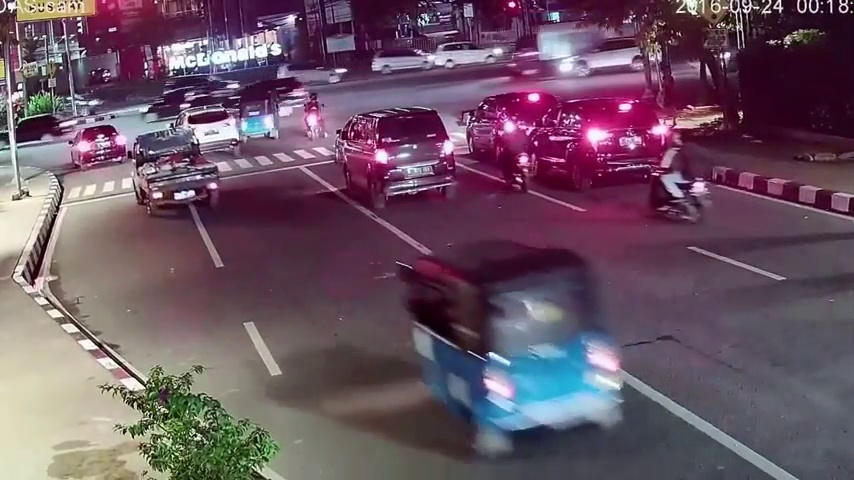car: (392, 235, 617, 434), (524, 97, 666, 192), (344, 109, 455, 206), (129, 129, 221, 213), (466, 92, 561, 167), (171, 106, 237, 148), (71, 126, 127, 167), (239, 86, 280, 142)
motorbike: (644, 131, 710, 221), (495, 123, 535, 195), (304, 92, 327, 144)
